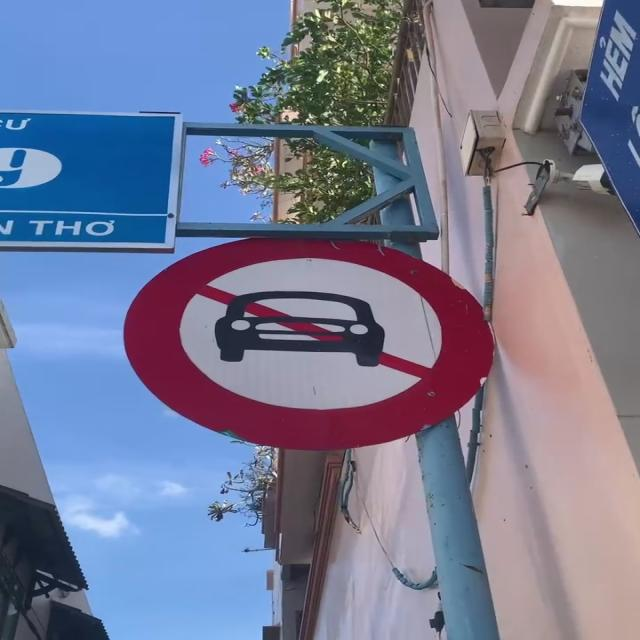Cam_O_To: (123, 226, 494, 450)
